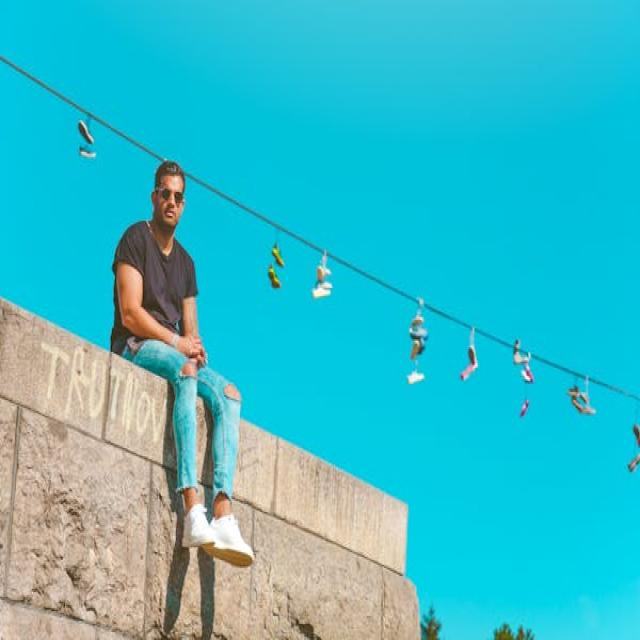Real human 2: (104, 144, 261, 588)
